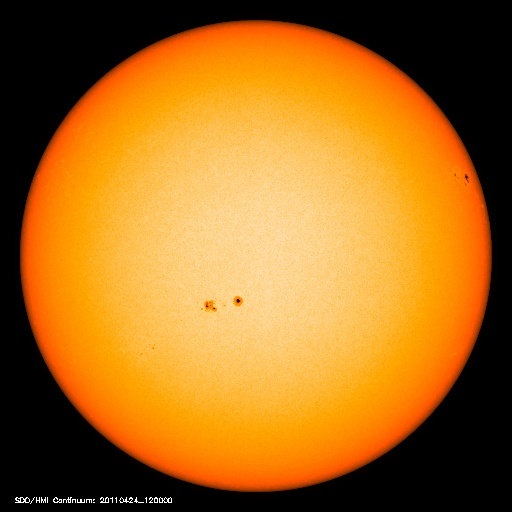sunspot: (189, 289, 255, 318), (443, 161, 481, 193)
